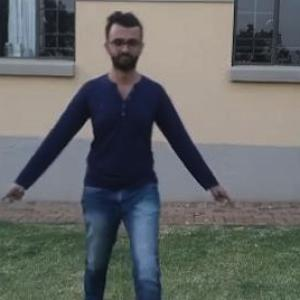land: (35, 37, 205, 294)
